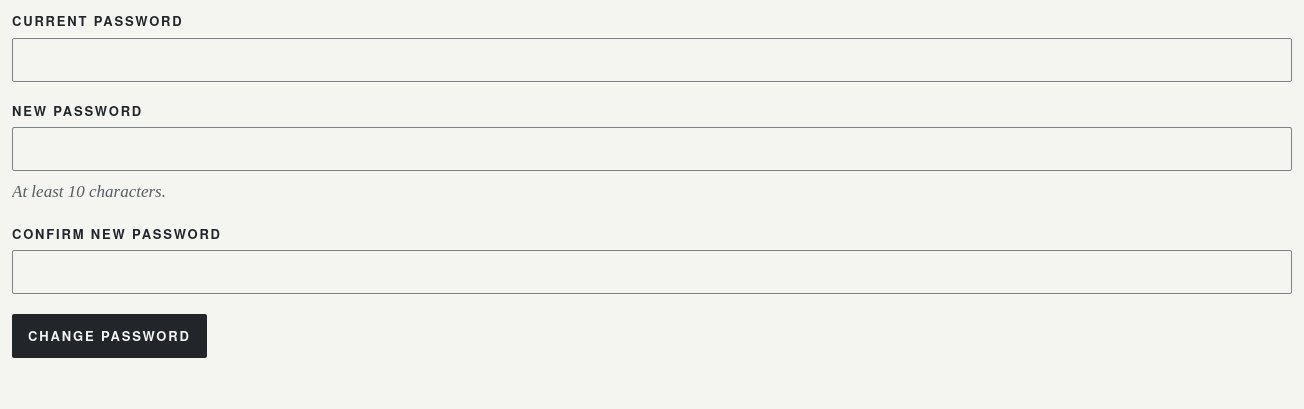
Test case: PasswordForm (own password) › puts a wrong current password on the current field
Type "wrong-password" into the password field labelled "Current password". click: (652,60)
box: [12,38,1292,82]
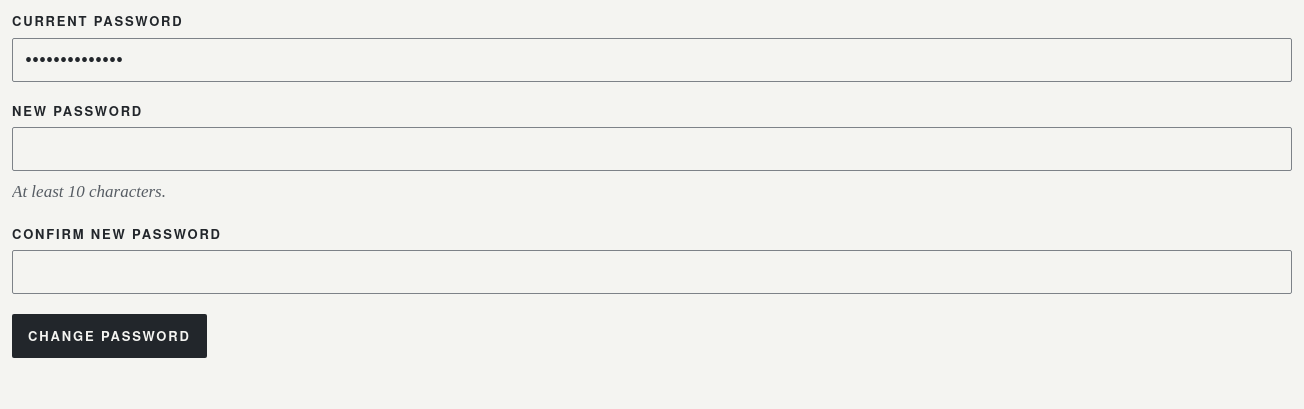
Type "new-password-1" into the password field labelled "New password". click: (652,149)
box: [12,127,1292,171]
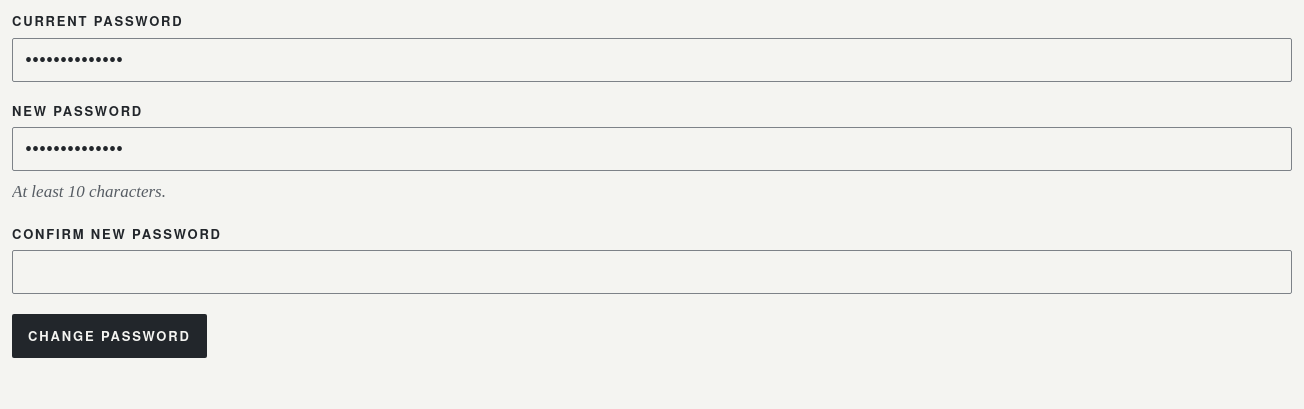
Type "new-password-1" into the password field labelled "Confirm new password". click: (652,272)
box: [12,250,1292,294]
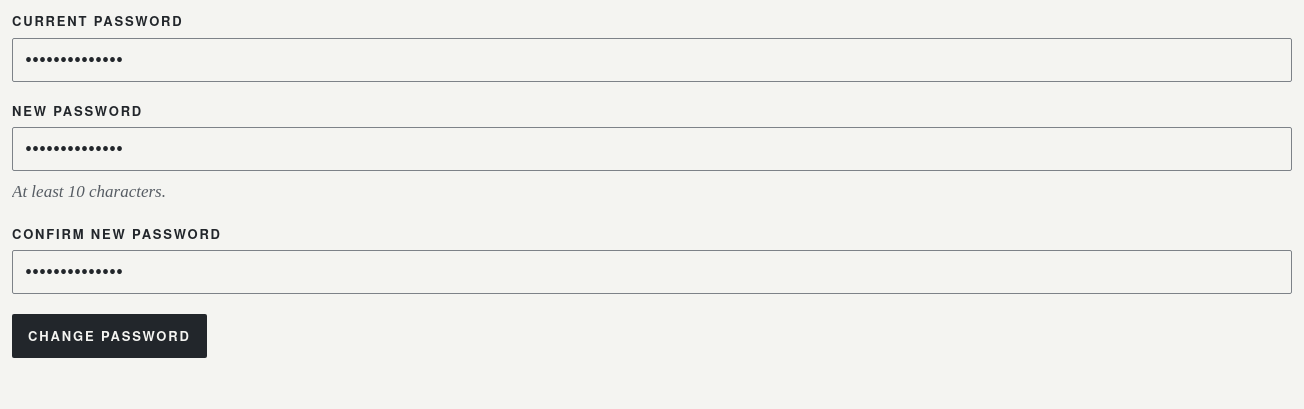
Submit the form
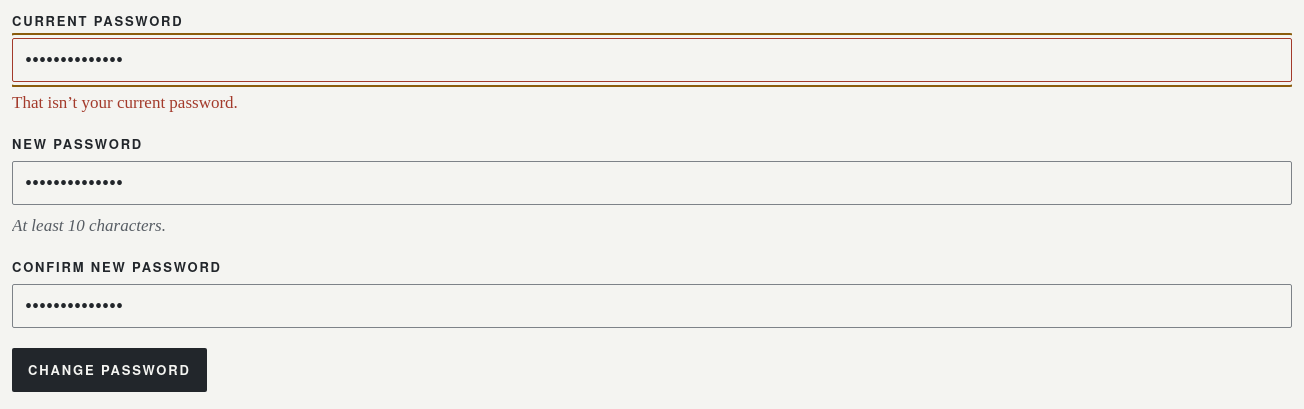
Check: the text with id "own-current-msg" shows "current password", box [12,92,238,112]
